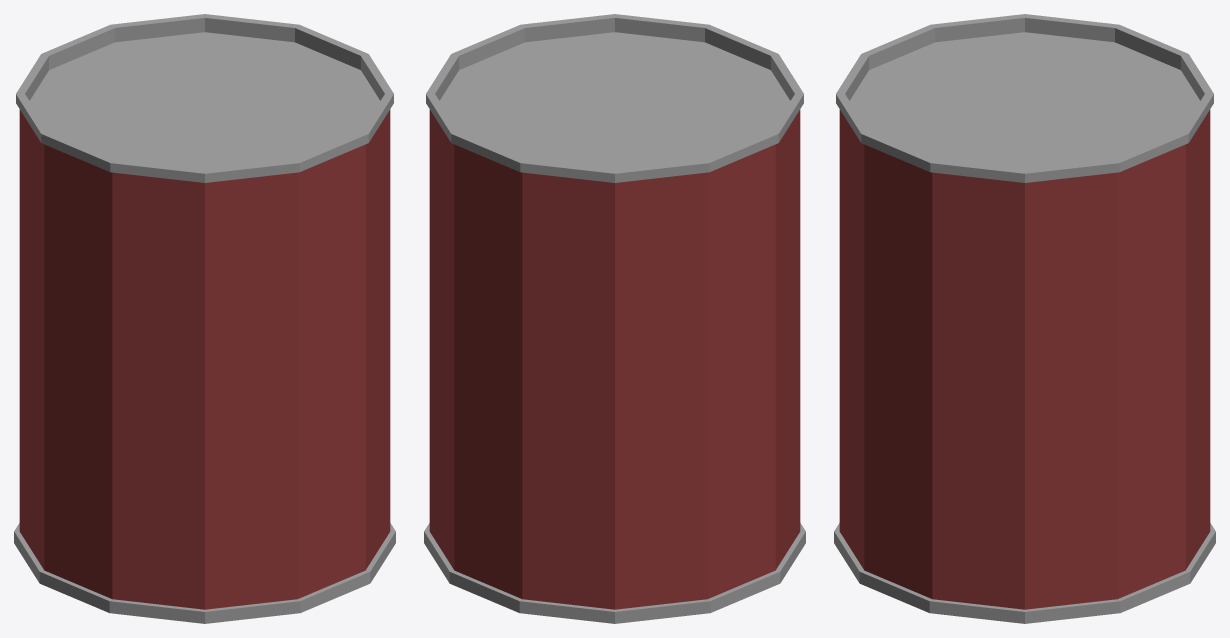
The model's file is Canned_Meat_vc.fbx.
3 views of the same model, side by side, from view 1: azimuth 30°, elevation 25°; view 2: azimuth 150°, elevation 25°; view 3: azimuth 270°, elevation 25° (orthographic).
Parts seen in each view (by area): view 1: Canned_Meat_vc; view 2: Canned_Meat_vc; view 3: Canned_Meat_vc.
Part boxes in pixels (left/top/right/bottom): Canned_Meat_vc: left=14, top=14, right=395, bottom=623; Canned_Meat_vc: left=424, top=14, right=805, bottom=623; Canned_Meat_vc: left=834, top=14, right=1215, bottom=623.
Size of the model in its own units: 8 by 10.4 by 8.
